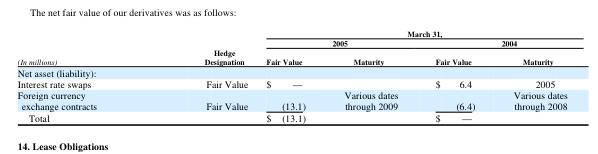table: (16, 28, 566, 123)
table column: (16, 28, 149, 123), (149, 28, 256, 123), (324, 28, 416, 123), (416, 28, 493, 123), (493, 28, 566, 123), (256, 28, 324, 123)
table column header: (16, 28, 566, 66)
table projected row header: (16, 66, 566, 77)
table row: (16, 51, 566, 66), (16, 37, 566, 51), (16, 99, 566, 111), (16, 111, 566, 123), (16, 66, 566, 77), (16, 77, 566, 88), (16, 88, 566, 99), (16, 28, 566, 37)
table spanning cell: (16, 28, 149, 66), (149, 28, 256, 66), (256, 28, 566, 37), (256, 37, 416, 51), (416, 37, 566, 51)
